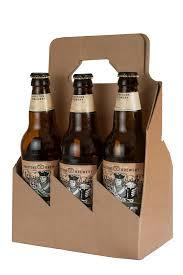Glass bottle: (16, 62, 57, 199), (104, 71, 144, 210), (60, 66, 99, 198)
